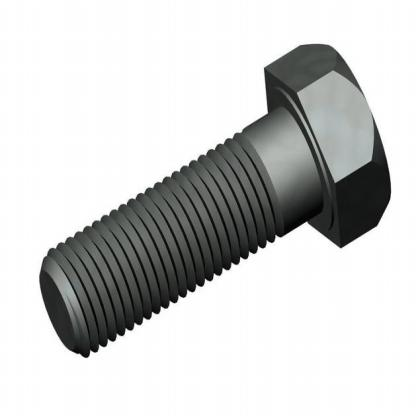FOD: (36, 39, 395, 362)
